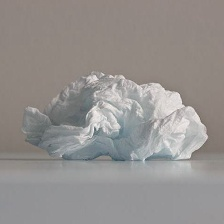tissue: (15, 65, 213, 168)
